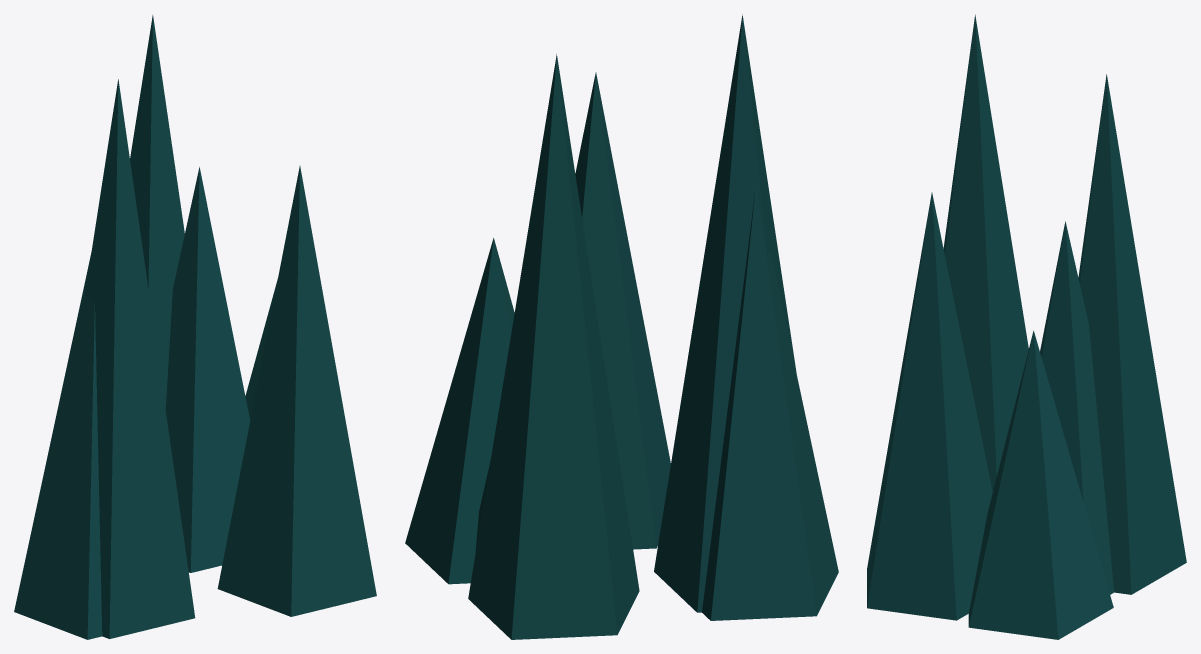
Rendered from SM_MP_Ice_Shards.fbx.
The picture shows the model from 3 angles, left to right: view 1: azimuth 30°, elevation 25°; view 2: azimuth 150°, elevation 25°; view 3: azimuth 270°, elevation 25°; orthographic projection. The views are drawn at different scales.
Parts seen in each view (by area): view 1: SM_MP_Ice_Shards; view 2: SM_MP_Ice_Shards; view 3: SM_MP_Ice_Shards.
Boxes of the visible parts, left/top/right/bottom form: SM_MP_Ice_Shards: left=14, top=15, right=376, bottom=639; SM_MP_Ice_Shards: left=405, top=14, right=838, bottom=639; SM_MP_Ice_Shards: left=867, top=14, right=1186, bottom=639.
Size of the model in its own units: 122 by 99.7 by 172.
1 material, 1 textured.
